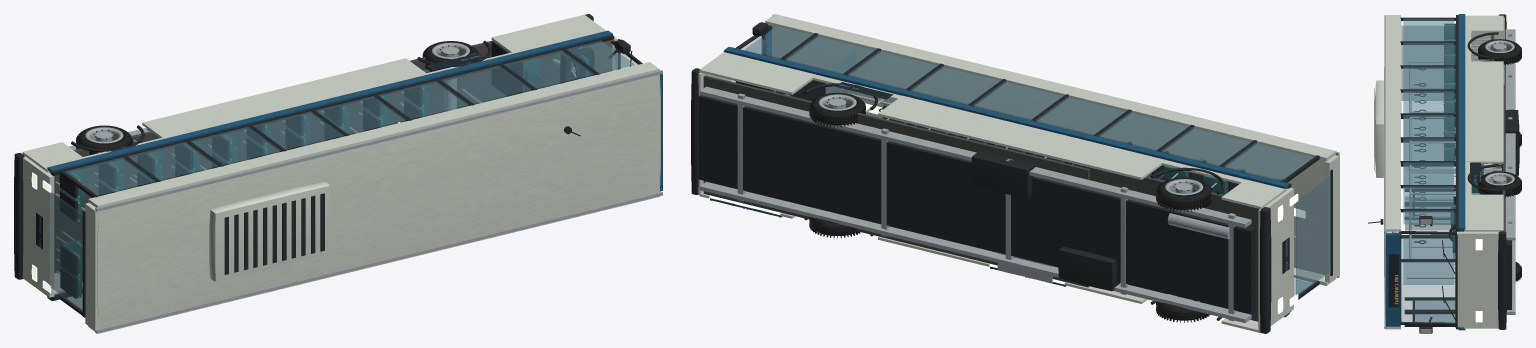
The model's file is BUS_local.glb.
3 views of the same model, side by side, from view 1: azimuth 30°, elevation 25°; view 2: azimuth 150°, elevation 25°; view 3: azimuth 270°, elevation 25° (orthographic). The views are drawn at different scales.
Visible parts, largest first — view 1: RENDER_Roof_MainPanel, RENDER_Roof_HVAC_Condenser, RENDER_Body_L_RoofHeader, RENDER_Body_L_LowerPanel_1, RENDER_LowFloor_Deck, RENDER_Livery_L_BlueBand_0, RENDER_Rear_BodyLower, RENDER_Rear_Window, RENDER_RearFloor_RaisedDeck, RENDER_Body_L_WindowSill, RENDER_Roof_EdgeChannel_L, RENDER_Roof_EdgeChannel_R (+18 smaller); view 2: RENDER_Chassis_MainBeam, RENDER_Roof_MainPanel, RENDER_Body_L_RoofHeader, RENDER_Body_L_LowerPanel_1, RENDER_LowFloor_Deck, RENDER_Chassis_Longitudinal_R, RENDER_Chassis_Longitudinal_L, RENDER_Livery_L_BlueBand_0, RENDER_Rear_Window, RENDER_Rear_BodyLower, RENDER_Body_L_LowerPanel_2, RENDER_RearFloor_RaisedDeck (+26 smaller); view 3: RENDER_Body_L_LowerPanel_1, RENDER_Front_BodySkirt, RENDER_Body_L_RoofHeader, RENDER_Rear_Window, RENDER_Livery_L_BlueBand_0, RENDER_Interior_ContinuousGrabRails, RENDER_Chassis_Longitudinal_L, RENDER_Body_L_LowerPanel_2, RENDER_DriverCabin_ProtectiveGlass, RENDER_Glass_L_PassengerWindow_0, RENDER_Glass_L_PassengerWindow_1, RENDER_Glass_L_PassengerWindow_2 (+79 smaller).
Boxes of the visible parts, bbox=[...] form: RENDER_Roof_MainPanel: bbox=[97, 74, 660, 328]; RENDER_Roof_HVAC_Condenser: bbox=[209, 181, 330, 281]; RENDER_Body_L_RoofHeader: bbox=[88, 62, 659, 207]; RENDER_Body_L_LowerPanel_1: bbox=[142, 58, 427, 138]; RENDER_LowFloor_Deck: bbox=[233, 40, 579, 162]; RENDER_Livery_L_BlueBand_0: bbox=[47, 30, 612, 172]; RENDER_Rear_BodyLower: bbox=[22, 156, 54, 297]; RENDER_Rear_Window: bbox=[49, 192, 82, 310]; RENDER_RearFloor_RaisedDeck: bbox=[49, 131, 213, 272]; RENDER_Body_L_WindowSill: bbox=[51, 35, 614, 176]; RENDER_Roof_EdgeChannel_L: bbox=[95, 70, 662, 211]; RENDER_Roof_EdgeChannel_R: bbox=[95, 191, 662, 333]; RENDER_Chassis_MainBeam: bbox=[698, 95, 1255, 313]; RENDER_Roof_MainPanel: bbox=[772, 26, 1325, 274]; RENDER_Body_L_RoofHeader: bbox=[765, 14, 1336, 161]; RENDER_Body_L_LowerPanel_1: bbox=[878, 95, 1165, 179]; RENDER_LowFloor_Deck: bbox=[703, 75, 1089, 287]; RENDER_Chassis_Longitudinal_R: bbox=[700, 181, 1251, 323]; RENDER_Chassis_Longitudinal_L: bbox=[700, 86, 1251, 227]; RENDER_Livery_L_BlueBand_0: bbox=[724, 47, 1289, 188]; RENDER_Rear_Window: bbox=[1296, 175, 1330, 294]; RENDER_Rear_BodyLower: bbox=[1258, 188, 1293, 330]; RENDER_Body_L_LowerPanel_2: bbox=[699, 52, 816, 94]; RENDER_RearFloor_RaisedDeck: bbox=[1084, 166, 1259, 321]; RENDER_Body_L_LowerPanel_1: bbox=[1465, 61, 1503, 163]; RENDER_Front_BodySkirt: bbox=[1457, 231, 1498, 327]; RENDER_Body_L_RoofHeader: bbox=[1386, 15, 1400, 231]; RENDER_Rear_Window: bbox=[1401, 25, 1443, 100]; RENDER_Livery_L_BlueBand_0: bbox=[1458, 14, 1465, 229]; RENDER_Interior_ContinuousGrabRails: bbox=[1409, 60, 1501, 259]; RENDER_Chassis_Longitudinal_L: bbox=[1505, 29, 1515, 240]; RENDER_Body_L_LowerPanel_2: bbox=[1464, 194, 1503, 231]; RENDER_DriverCabin_ProtectiveGlass: bbox=[1405, 196, 1452, 230]; RENDER_Glass_L_PassengerWindow_0: bbox=[1403, 18, 1454, 41]; RENDER_Glass_L_PassengerWindow_1: bbox=[1403, 42, 1454, 65]; RENDER_Glass_L_PassengerWindow_2: bbox=[1403, 66, 1454, 89].
Size of the model in its own units: 12.08 by 2.96 by 3.56.
10 materials, 10 textured.
